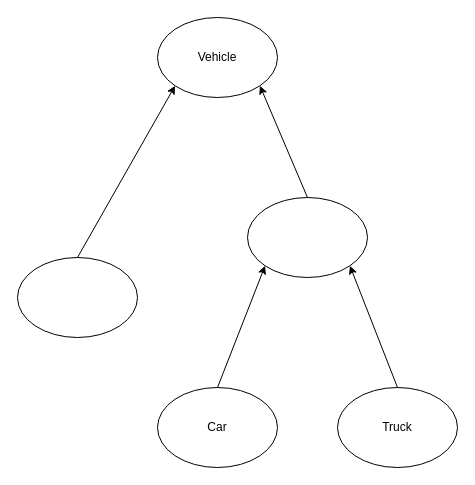
Some shapes in this 475 by 485 pixel diagram are drawn without their labels. Each missing label, with the centre of its shape:
Bicycle: point (77, 297)
MotorizedVehicle: point (307, 237)
